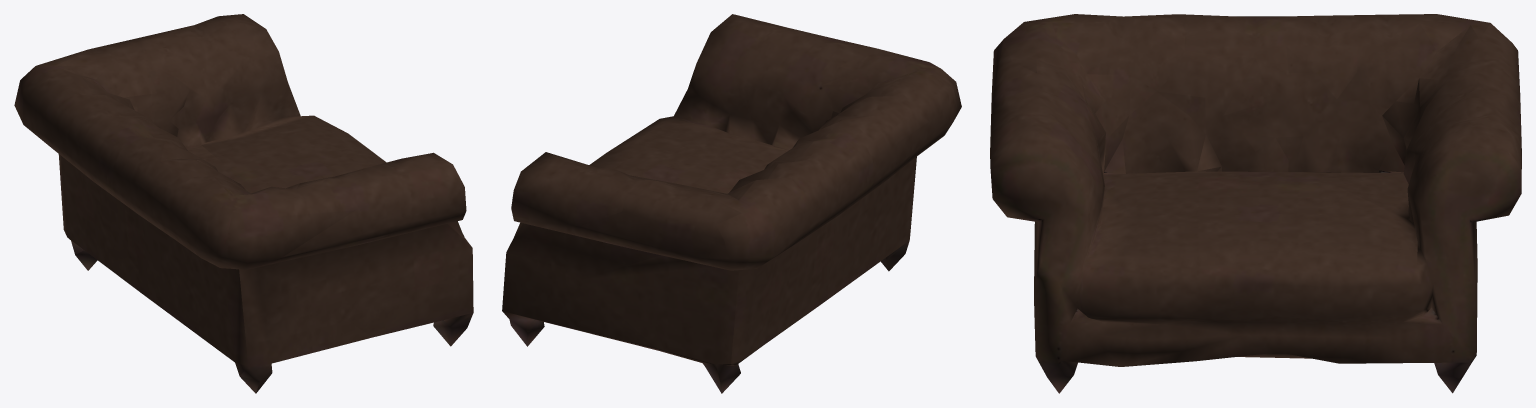
Rendered from M_Sofa0014.obj.
3 views of the same model, side by side, from view 1: azimuth 30°, elevation 25°; view 2: azimuth 150°, elevation 25°; view 3: azimuth 270°, elevation 25° (orthographic). The views are drawn at different scales.
Bounding box in the file's own units: 0.909 × 0.634 × 1.24.
Materials: 1 (1 with a texture image).
